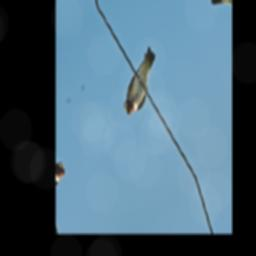Swallow: (110, 43, 168, 121)
